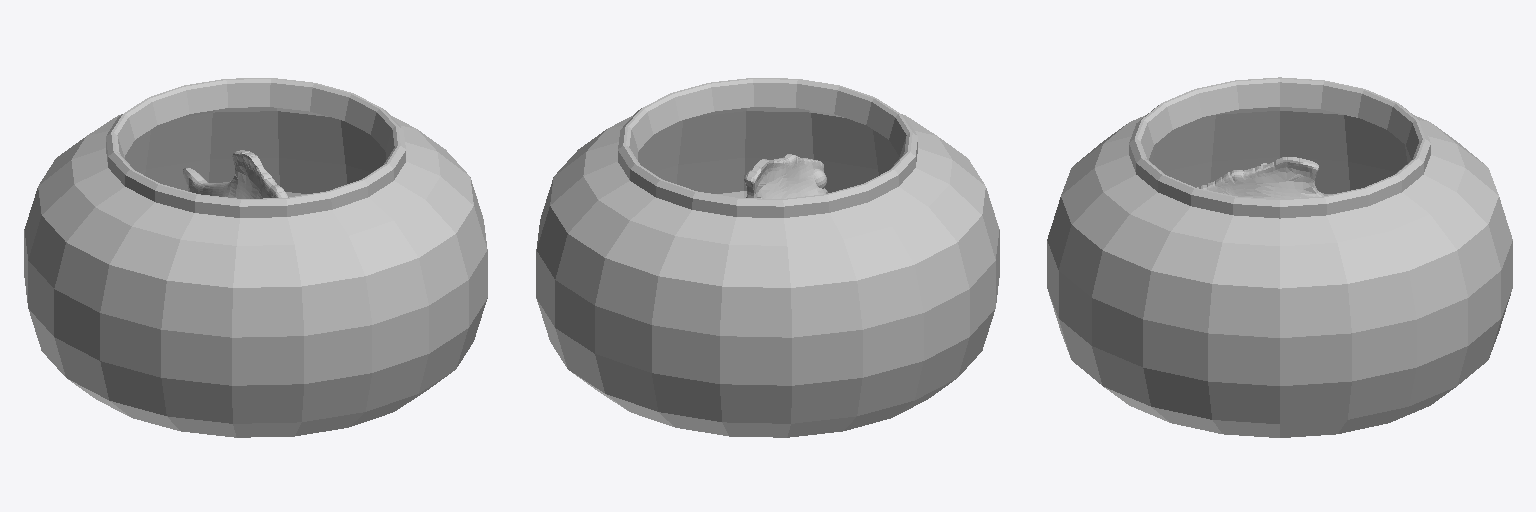
File: Fish_and_Bowl.obj
3 views of the same model, side by side, from view 1: azimuth 30°, elevation 25°; view 2: azimuth 150°, elevation 25°; view 3: azimuth 270°, elevation 25° (orthographic).
Parts seen in each view (by area): view 1: Bowl Scene, Scene Fish_Body Fish; view 2: Bowl Scene, Scene Fish_Body Fish; view 3: Bowl Scene, Scene Fish_Body Fish.
Part boxes in pixels (x1,y1,x2,y2): Bowl Scene: (24,78,487,437); Scene Fish_Body Fish: (183,150,287,198); Bowl Scene: (536,78,999,437); Scene Fish_Body Fish: (744,154,827,198); Bowl Scene: (1047,77,1512,437); Scene Fish_Body Fish: (1197,157,1323,198).
Size of the model in its own units: 14.3 by 7.93 by 14.3.